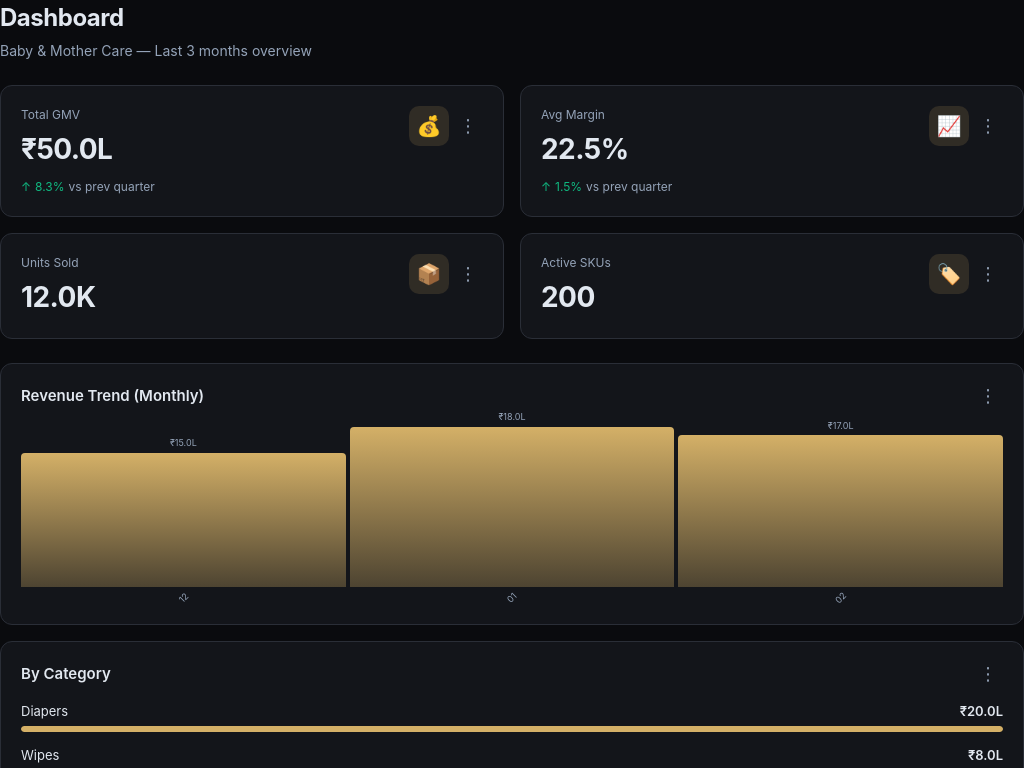
Test: Dashboard page › closes actions modal when backdrop is clicked
Expected: the text "Total GMV" is shown, 21,107 -> 80,122
Click the button titled "Options" in the row of "₹50.0L": (468, 126) 453,115 -> 483,137
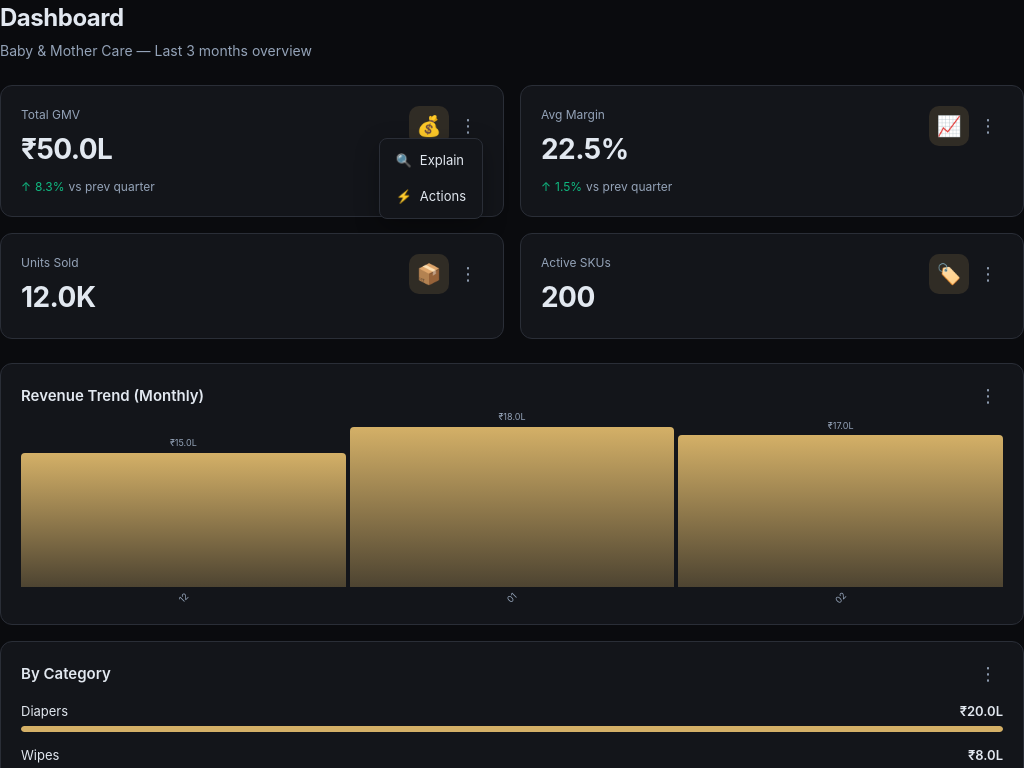
Result: the element with class "explain-dropdown" is shown at 379,138 -> 483,219
Click the button "⚡ Actions": (431, 196) 384,178 -> 478,214
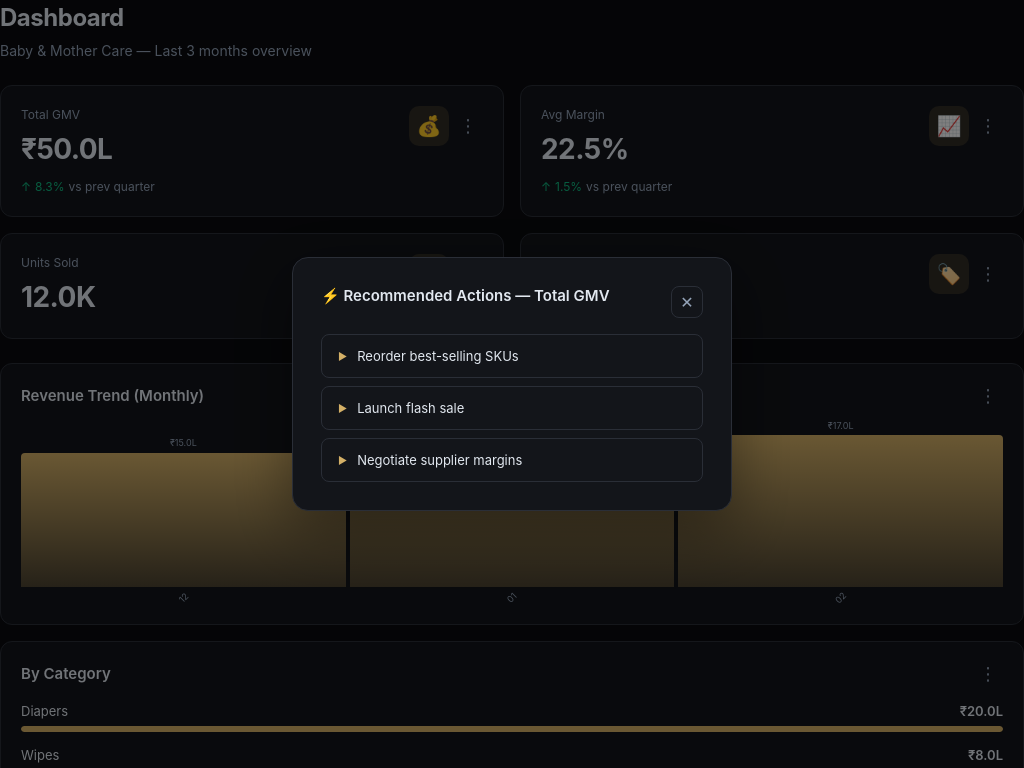
Result: the text "Reorder best-selling SKUs" is shown at 357,348 -> 519,364
Click the element with class "modal-backdrop": (61, 384) 0,0 -> 1023,767
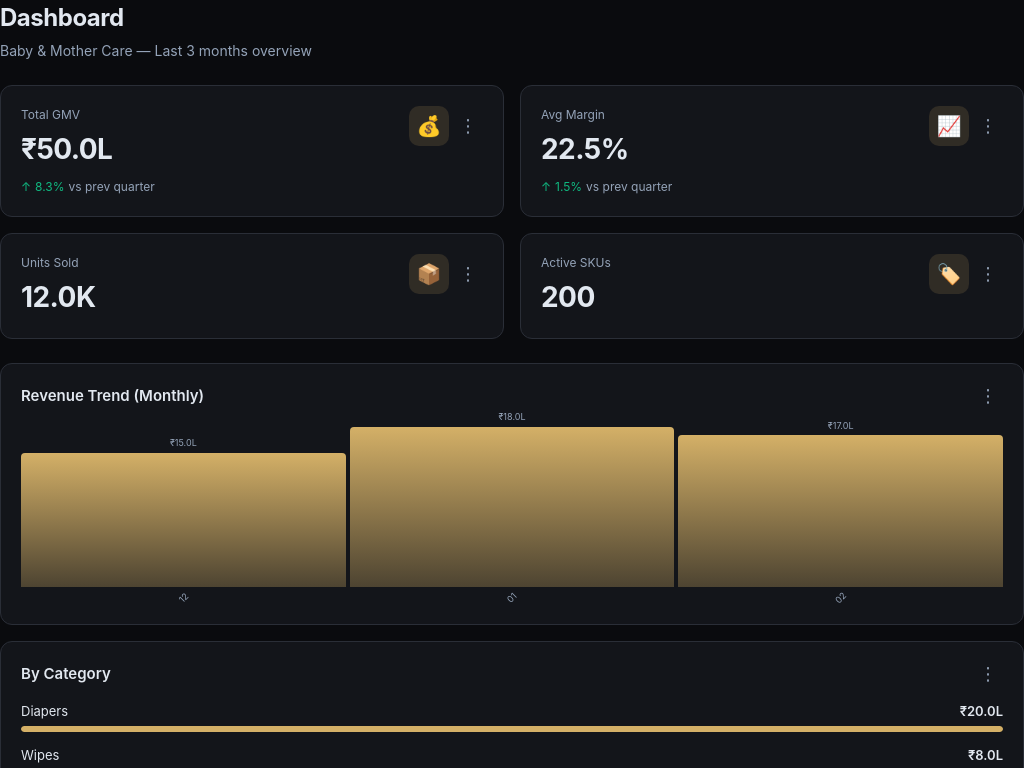
Result: the button "Reorder best-selling SKUs" is gone
